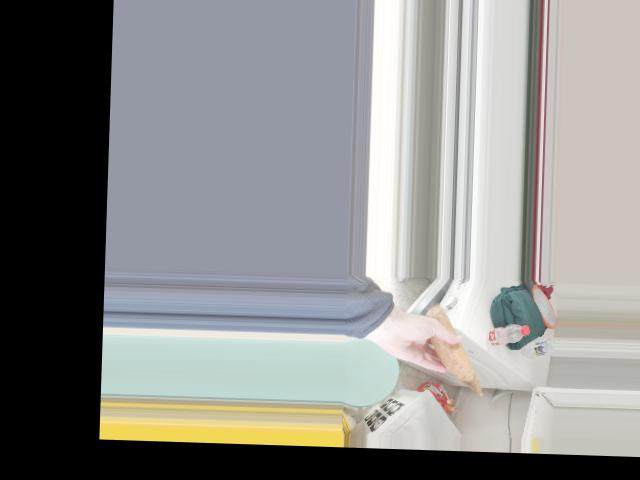sweet_potato: (429, 325, 478, 375)
